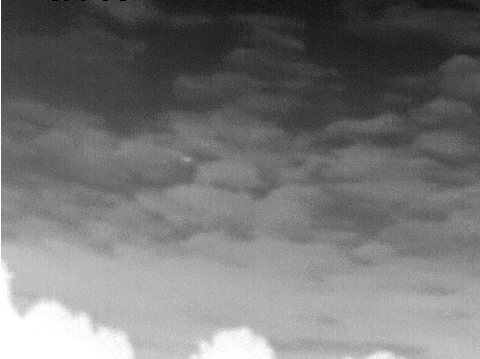dim target: (180, 153, 193, 164)
